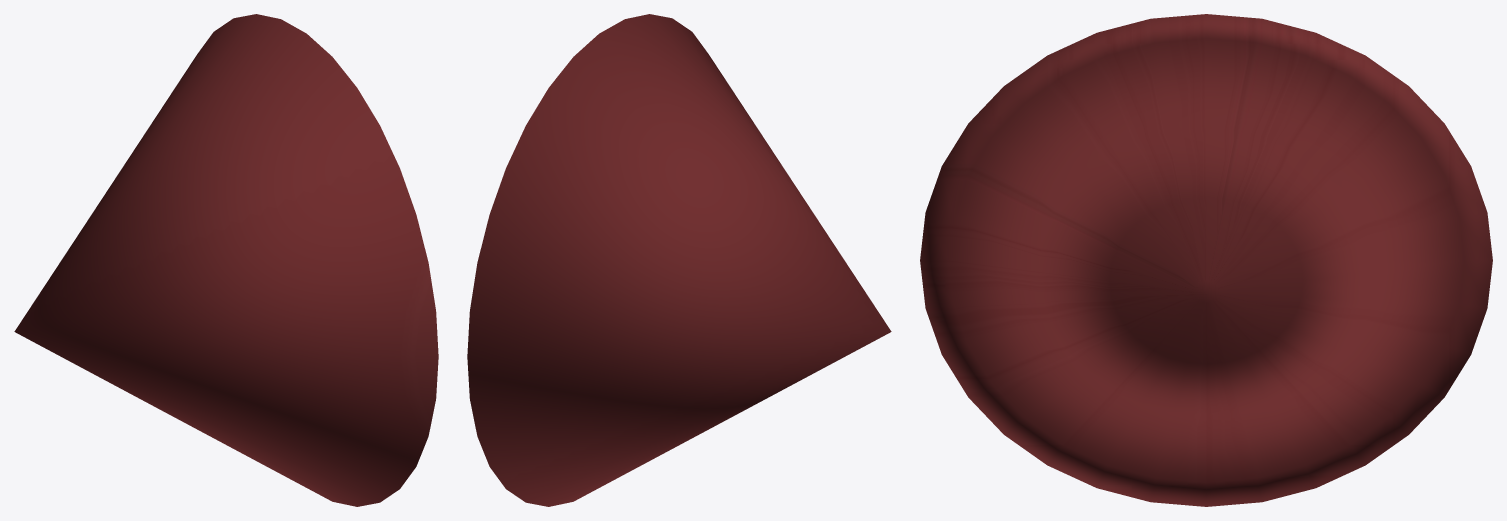
The model's file is knob-small.glb.
The picture shows the model from 3 angles, left to right: view 1: azimuth 30°, elevation 25°; view 2: azimuth 150°, elevation 25°; view 3: azimuth 270°, elevation 25°; orthographic projection. The views are drawn at different scales.
Visible parts, largest first — view 1: Cube.014; view 2: Cube.014; view 3: Cube.014.
Boxes of the visible parts, bbox=[...] form: Cube.014: bbox=[14, 14, 438, 506]; Cube.014: bbox=[467, 14, 891, 506]; Cube.014: bbox=[920, 14, 1492, 506].
Bounding box in the file's own units: 0.0455 × 0.0561 × 0.0591.
Materials: 1 (1 with a texture image).
